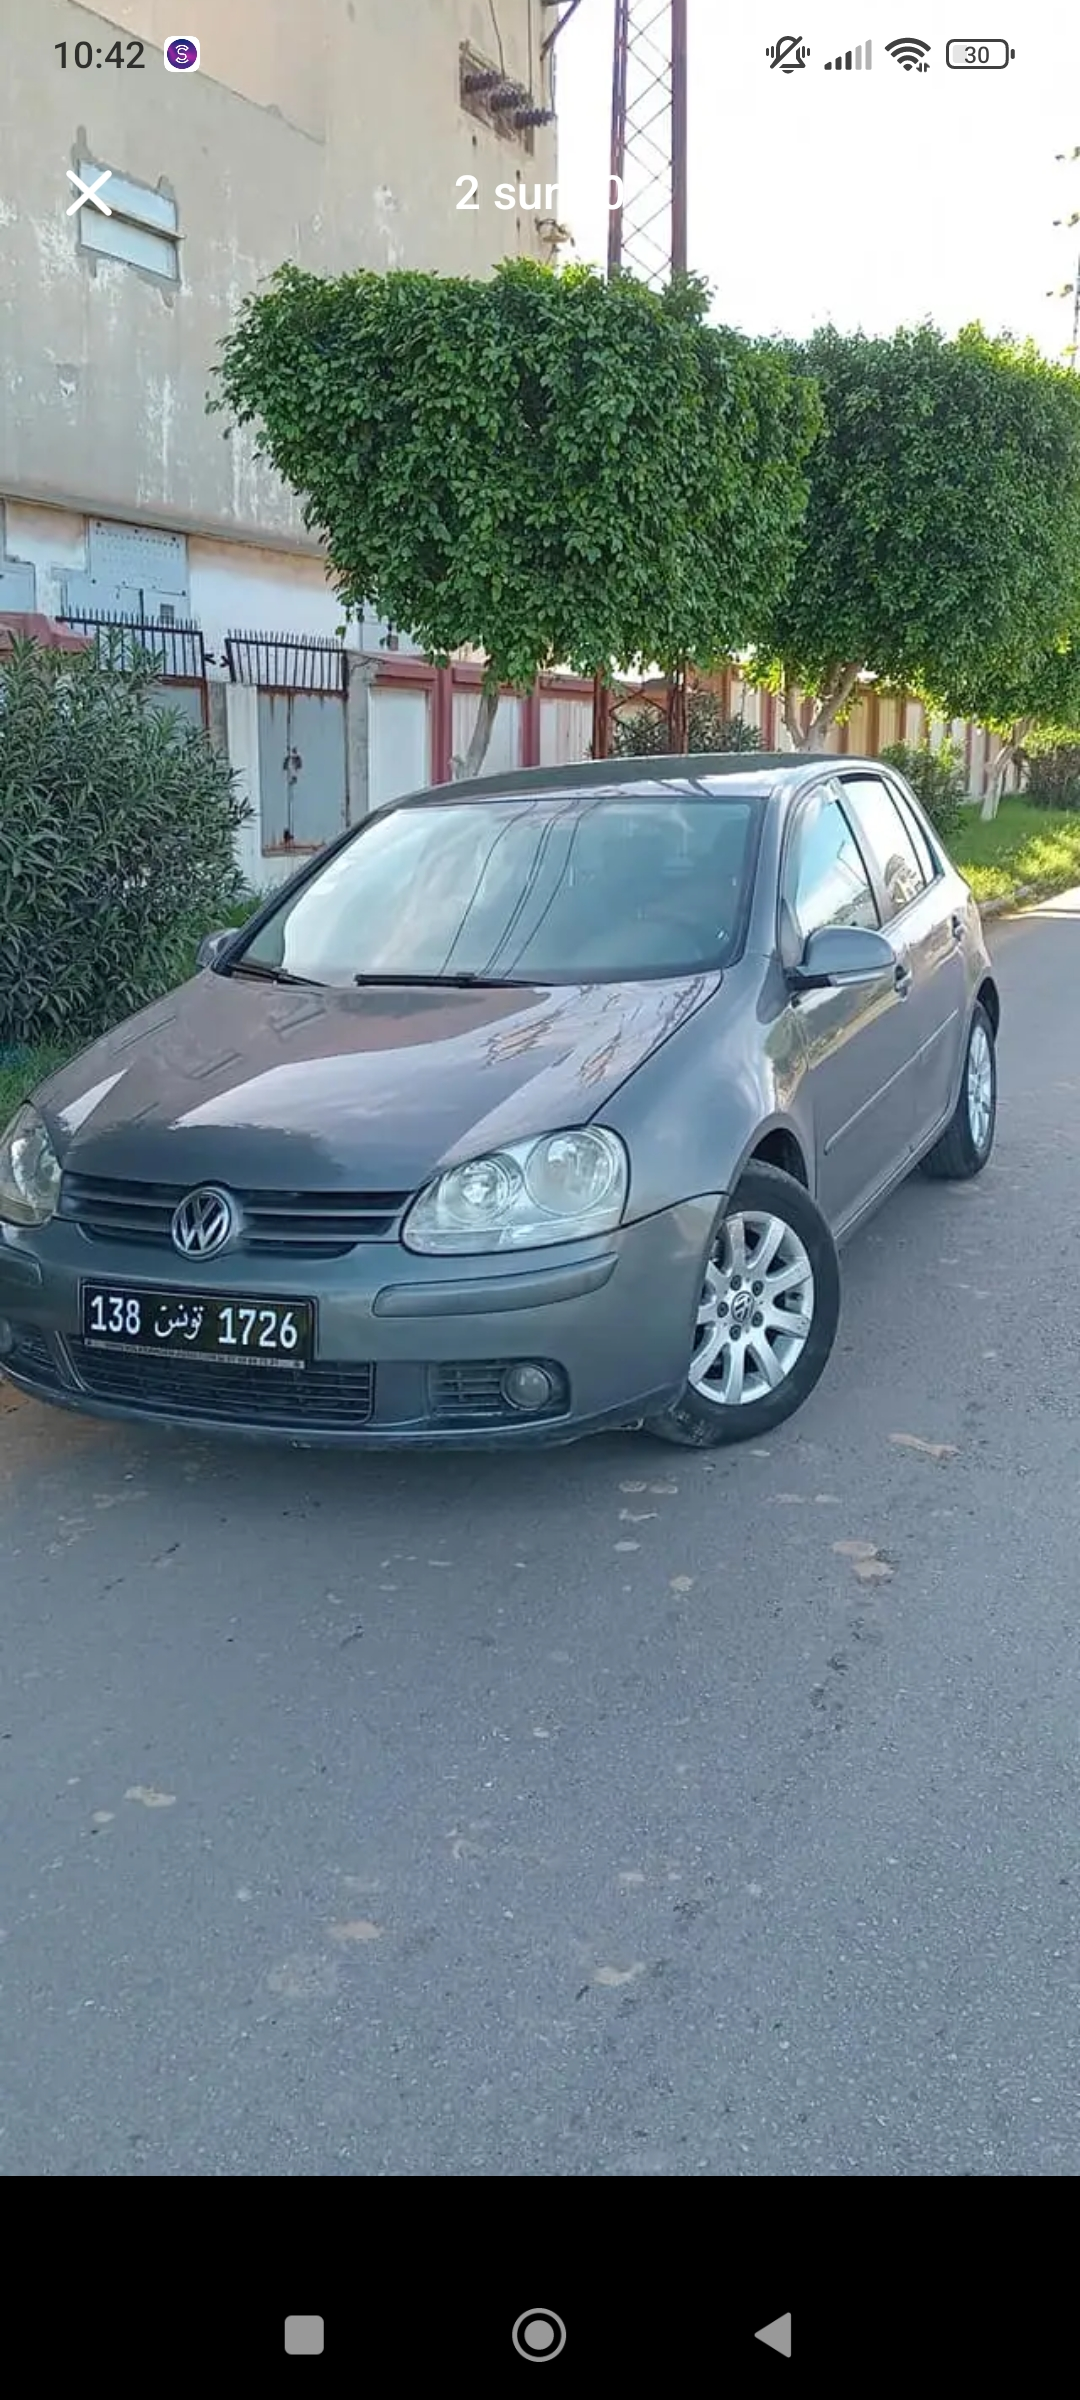volkswagen: (8, 771, 1016, 1462)
